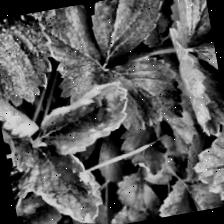Powdery Mildew Leaf: (3, 126, 106, 224), (29, 78, 137, 160), (168, 14, 224, 141), (0, 70, 42, 153)
